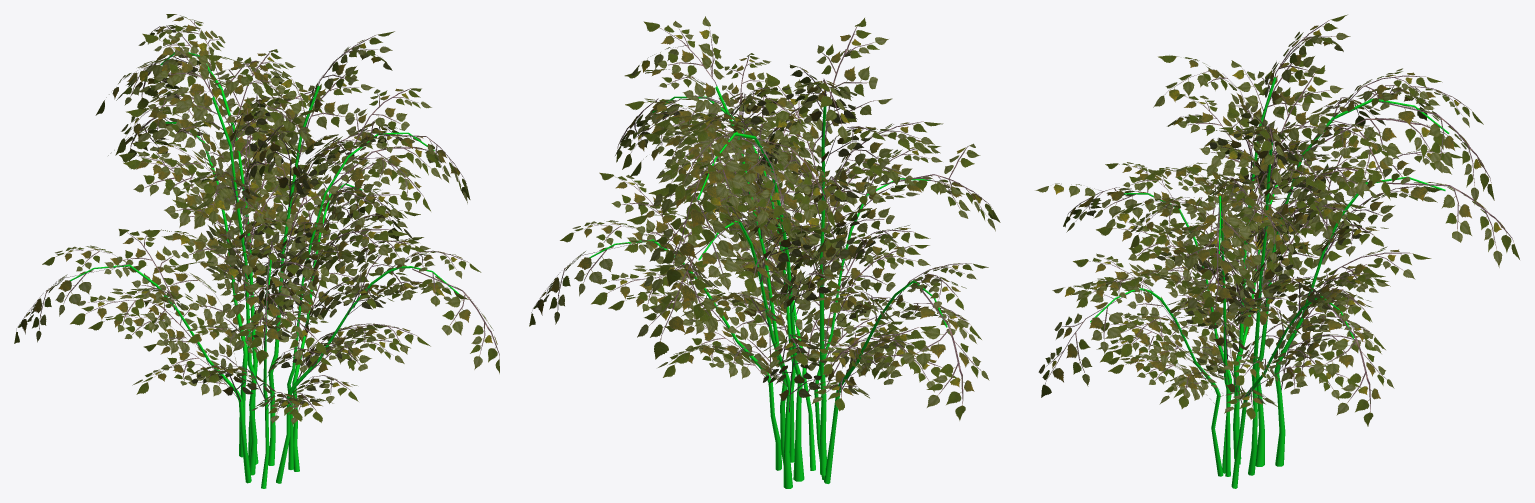
File: PW_Plant_Bush_01_02.fbx
3 renders of one model, left to right at view 1: azimuth 30°, elevation 25°; view 2: azimuth 150°, elevation 25°; view 3: azimuth 270°, elevation 25°, orthographic. The views are drawn at different scales.
Parts seen in each view (by area): view 1: PW_Plants_Bushes_02_LOD0; view 2: PW_Plants_Bushes_02_LOD0; view 3: PW_Plants_Bushes_02_LOD0.
Part boxes in pixels (x1,y1,x2,y2): PW_Plants_Bushes_02_LOD0: (14,14,499,488); PW_Plants_Bushes_02_LOD0: (529,16,1000,488); PW_Plants_Bushes_02_LOD0: (1035,14,1519,488).
Size of what is drawn, in the model's own units: 183 by 186 by 190.
Materials: 2 (1 with a texture image).
